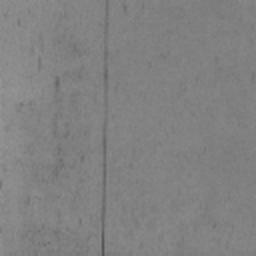Scratches: (100, 0, 110, 253)
